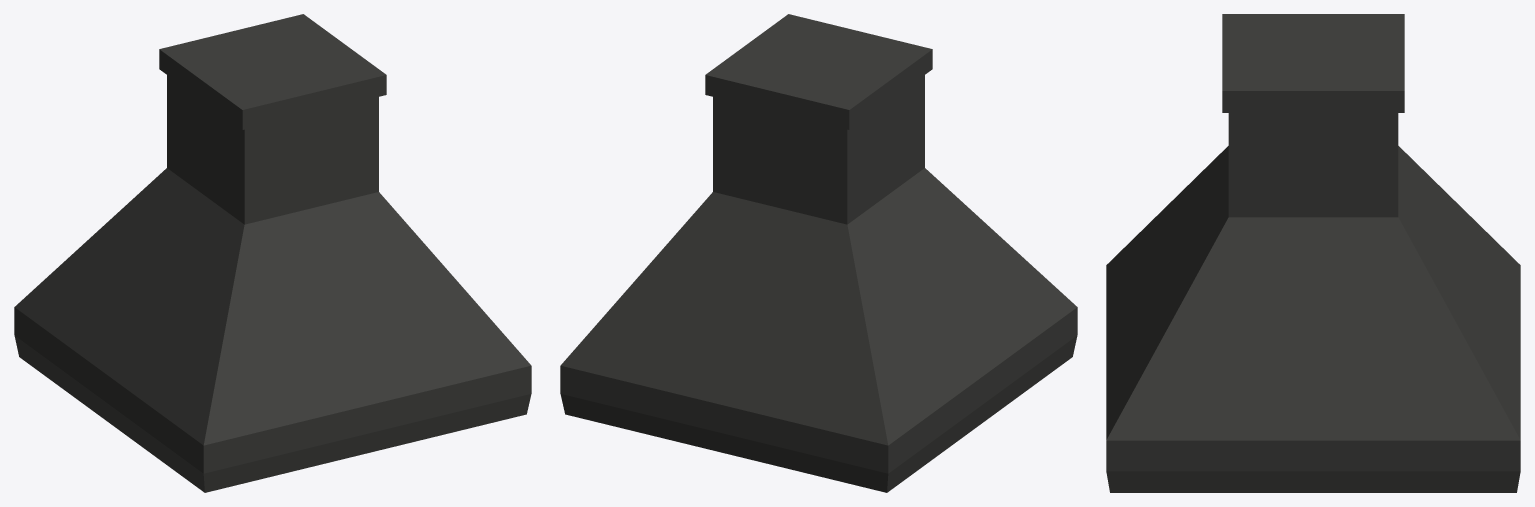
File: davlumbaz.fbx
3 renders of one model, left to right at view 1: azimuth 30°, elevation 25°; view 2: azimuth 150°, elevation 25°; view 3: azimuth 270°, elevation 25°, orthographic. The views are drawn at different scales.
Parts seen in each view (by area): view 1: Cube.017; view 2: Cube.017; view 3: Cube.017.
Part boxes in pixels (<box>): Cube.017: <box>14,14,531,492</box>; Cube.017: <box>560,14,1077,492</box>; Cube.017: <box>1106,14,1520,492</box>.
Size of the model in its own units: 150 by 141 by 150.
1 material, 1 textured.
